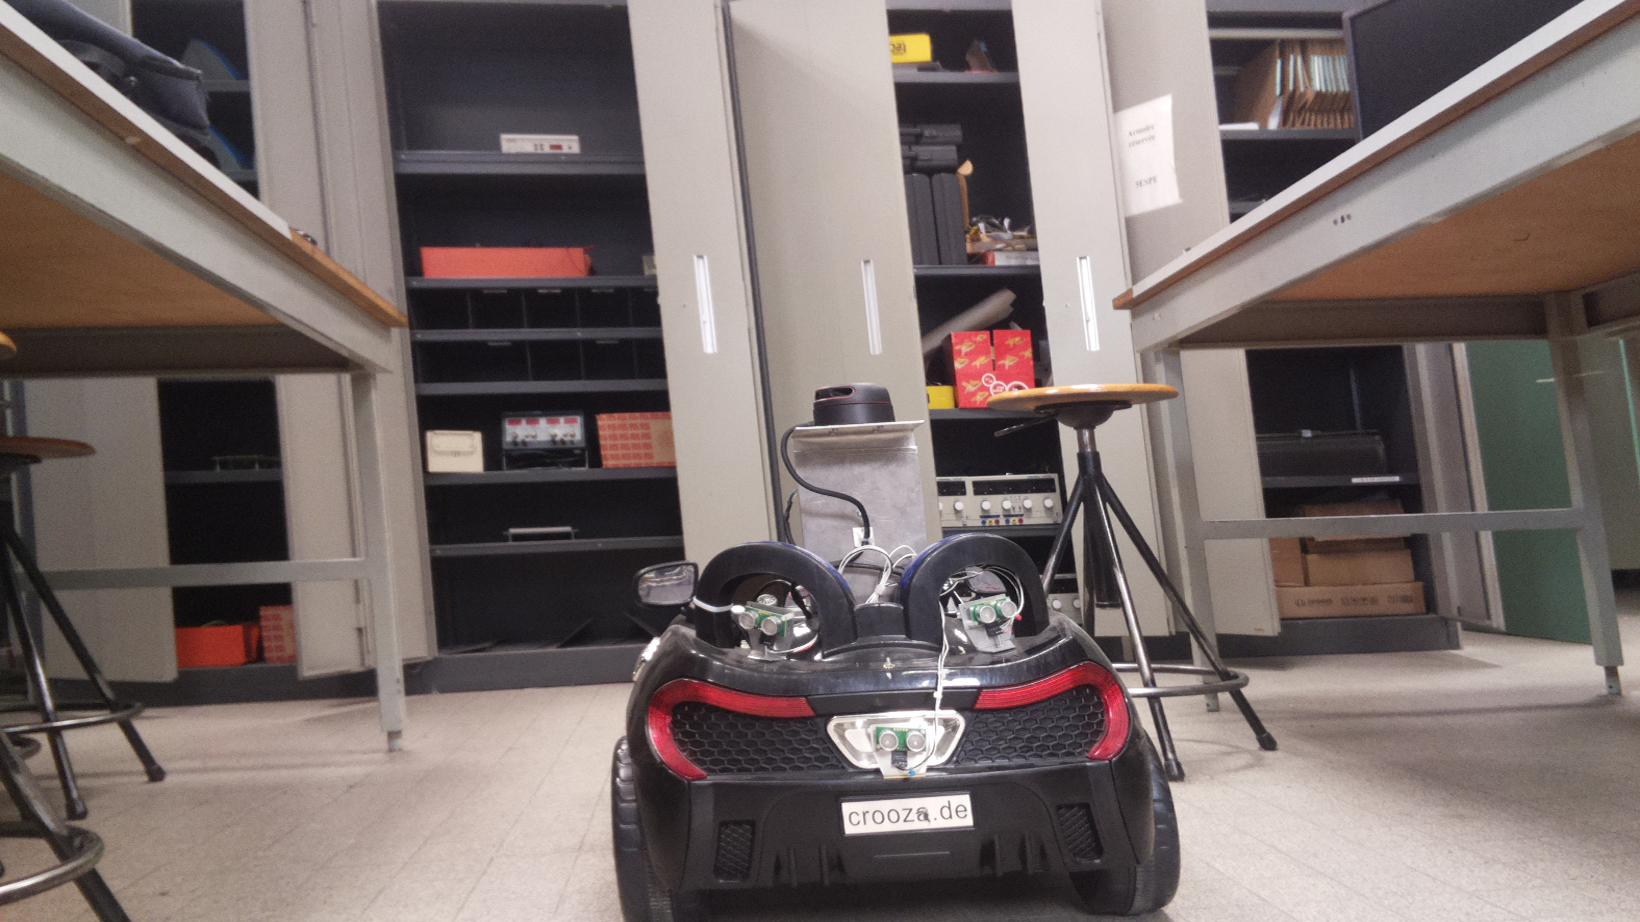big: (610, 382, 1187, 922)
